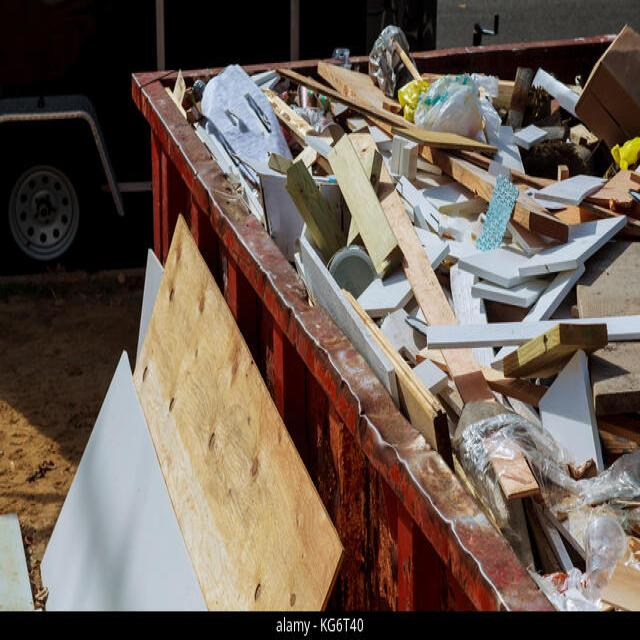cardboard: (337, 133, 515, 365), (124, 372, 288, 580)
